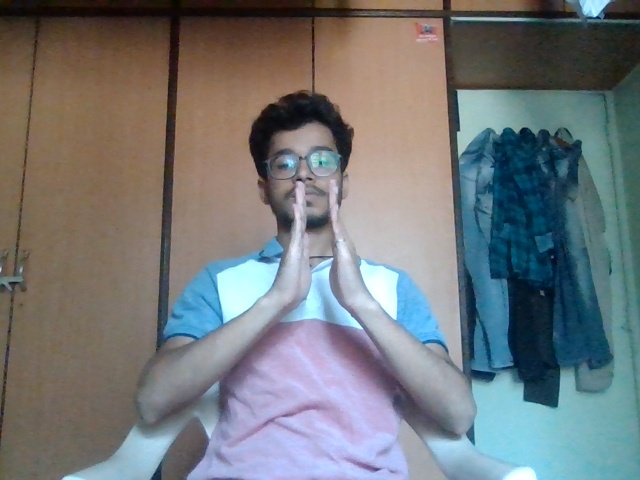morning: (275, 177, 392, 315)
